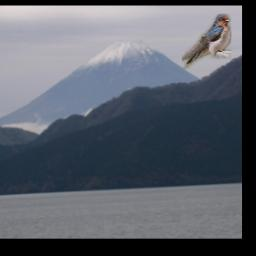Swallow: (182, 15, 231, 70)
